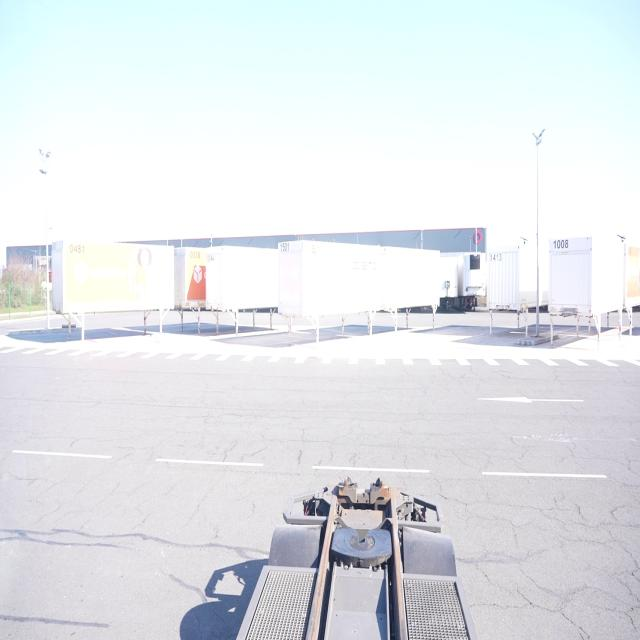Code: (549, 231, 572, 257), (66, 242, 90, 256), (278, 237, 293, 257), (488, 247, 503, 265)
